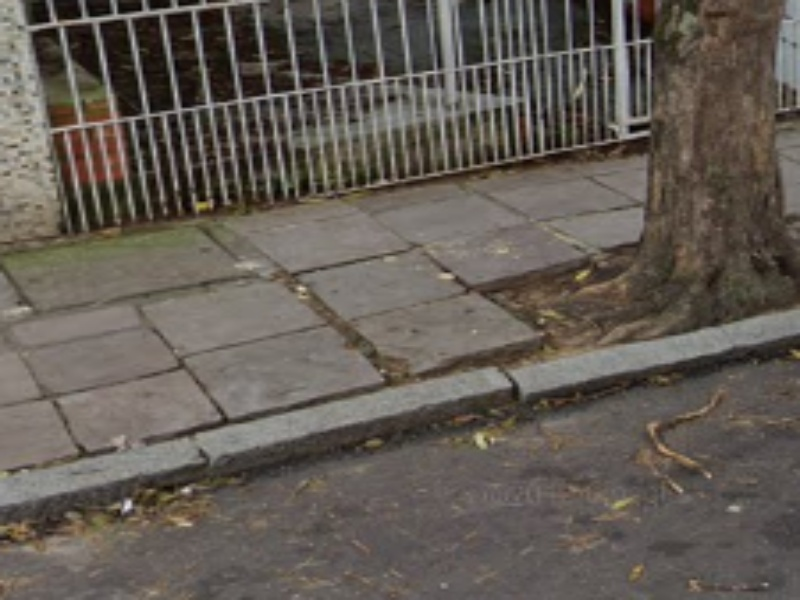v14: (1, 258, 783, 576)
